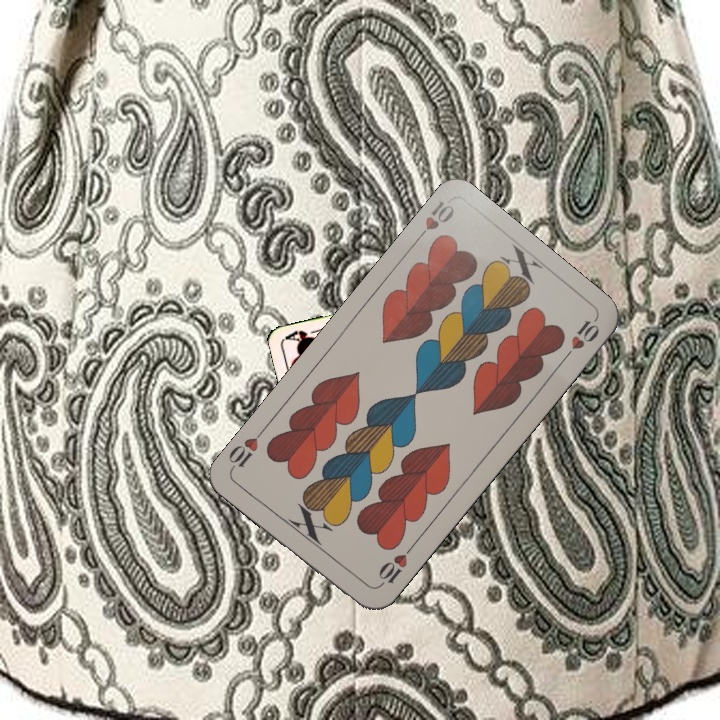H10: (410, 197, 457, 246), (372, 542, 416, 591)
